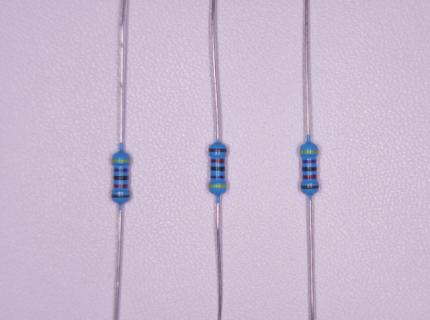Black band: (302, 167, 317, 171), (114, 176, 128, 180), (211, 167, 225, 171)
Brown band: (209, 148, 227, 153), (301, 185, 319, 189), (112, 195, 130, 198)
Red band: (114, 184, 128, 188), (211, 159, 225, 163), (302, 175, 316, 179)
Violet band: (114, 168, 129, 172), (211, 176, 225, 179), (302, 160, 316, 163)
Yellow band: (300, 150, 318, 154), (112, 159, 130, 162), (209, 185, 227, 188)
